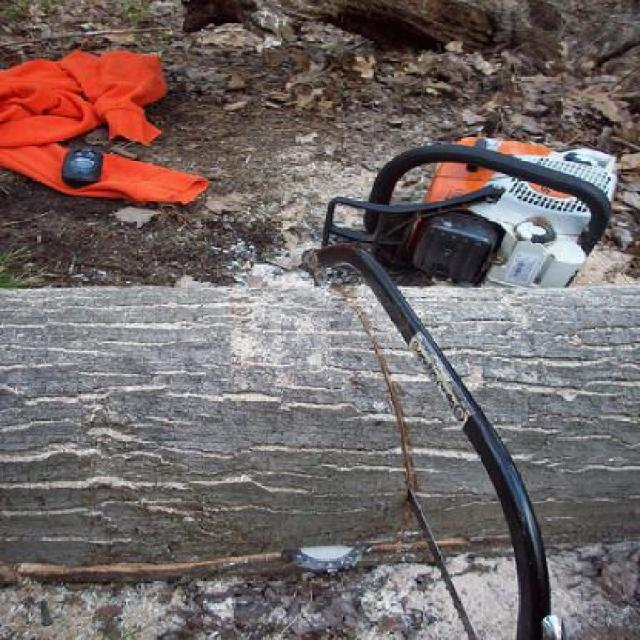Chainsaw: (286, 135, 622, 578)
